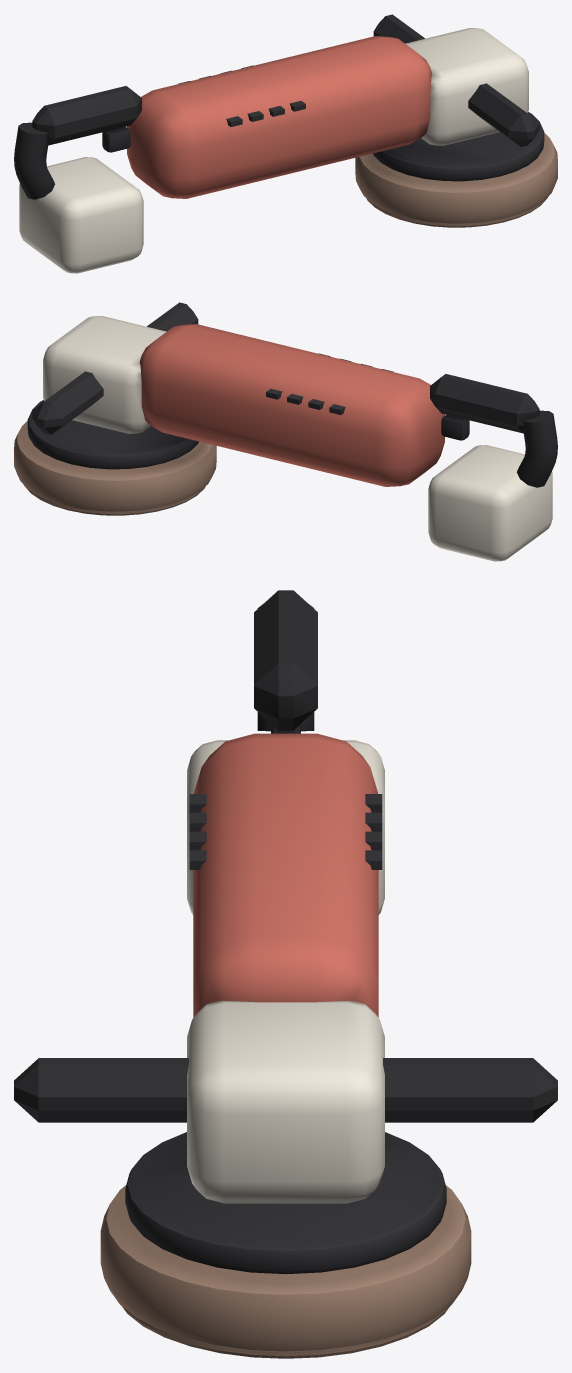
The model's file is nd_polisher.glb.
3 renders of one model, top to bottom at view 1: azimuth 30°, elevation 25°; view 2: azimuth 150°, elevation 25°; view 3: azimuth 270°, elevation 25°, orthographic. The views are drawn at different scales.
Parts seen in each view (by area): view 1: PART, KNOB_pad; view 2: PART, KNOB_pad; view 3: PART, KNOB_pad.
Part boxes in pixels (<box>): PART: <box>14,14,539,273</box>; KNOB_pad: <box>355,112,557,227</box>; PART: <box>32,302,557,561</box>; KNOB_pad: <box>14,400,216,515</box>; PART: <box>14,590,557,1203</box>; KNOB_pad: <box>100,1132,471,1358</box>.
Bounding box in the file's own units: 0.4507 × 0.148 × 0.22.
